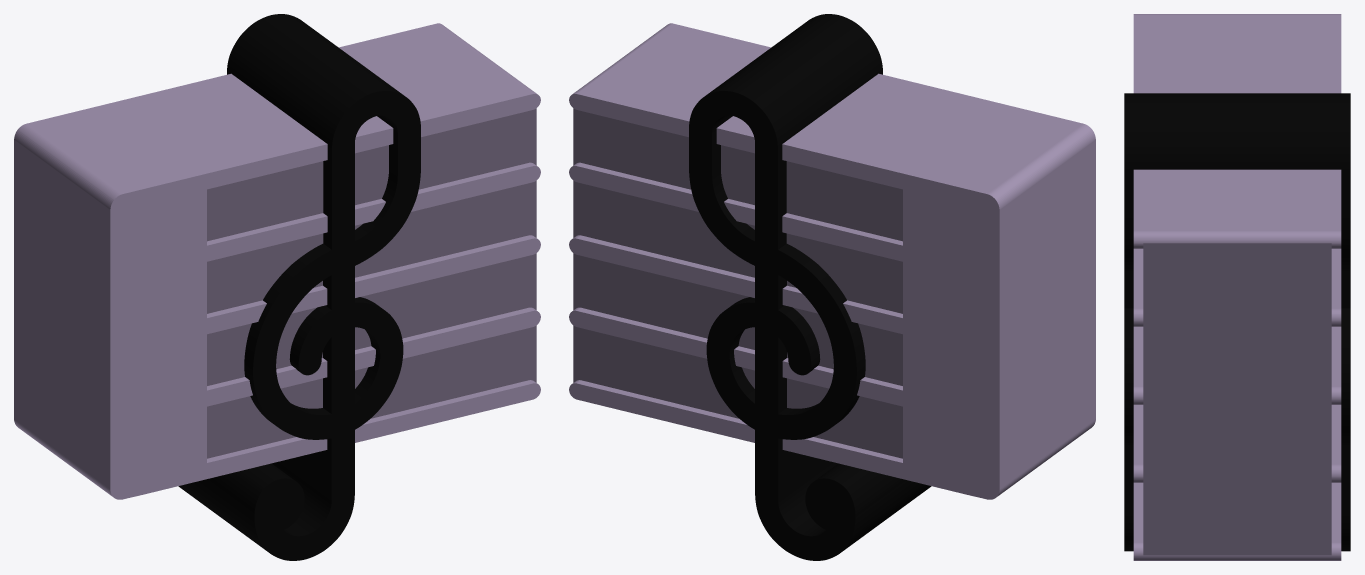
The picture shows the model from 3 angles, left to right: view 1: azimuth 30°, elevation 25°; view 2: azimuth 150°, elevation 25°; view 3: azimuth 270°, elevation 25°; orthographic projection. The views are drawn at different scales.
Parts seen in each view (by area): view 1: U+1F3BC_layer01_obj00, U+1F3BC_layer02_obj00, U+1F3BC_layer00_obj00; view 2: U+1F3BC_layer01_obj00, U+1F3BC_layer02_obj00, U+1F3BC_layer00_obj00; view 3: U+1F3BC_layer00_obj00, U+1F3BC_layer01_obj00, U+1F3BC_layer02_obj00.
Boxes of the visible parts, x1,y1,x2,y2 form: U+1F3BC_layer01_obj00: [14, 23, 540, 499]; U+1F3BC_layer02_obj00: [178, 14, 420, 560]; U+1F3BC_layer00_obj00: [207, 108, 536, 458]; U+1F3BC_layer01_obj00: [569, 23, 1095, 499]; U+1F3BC_layer02_obj00: [689, 14, 931, 560]; U+1F3BC_layer00_obj00: [573, 108, 902, 458]; U+1F3BC_layer00_obj00: [1143, 243, 1331, 555]; U+1F3BC_layer01_obj00: [1133, 14, 1341, 560]; U+1F3BC_layer02_obj00: [1124, 93, 1350, 551].
Bounding box in the file's own units: 0.5678 × 0.5674 × 0.24.
